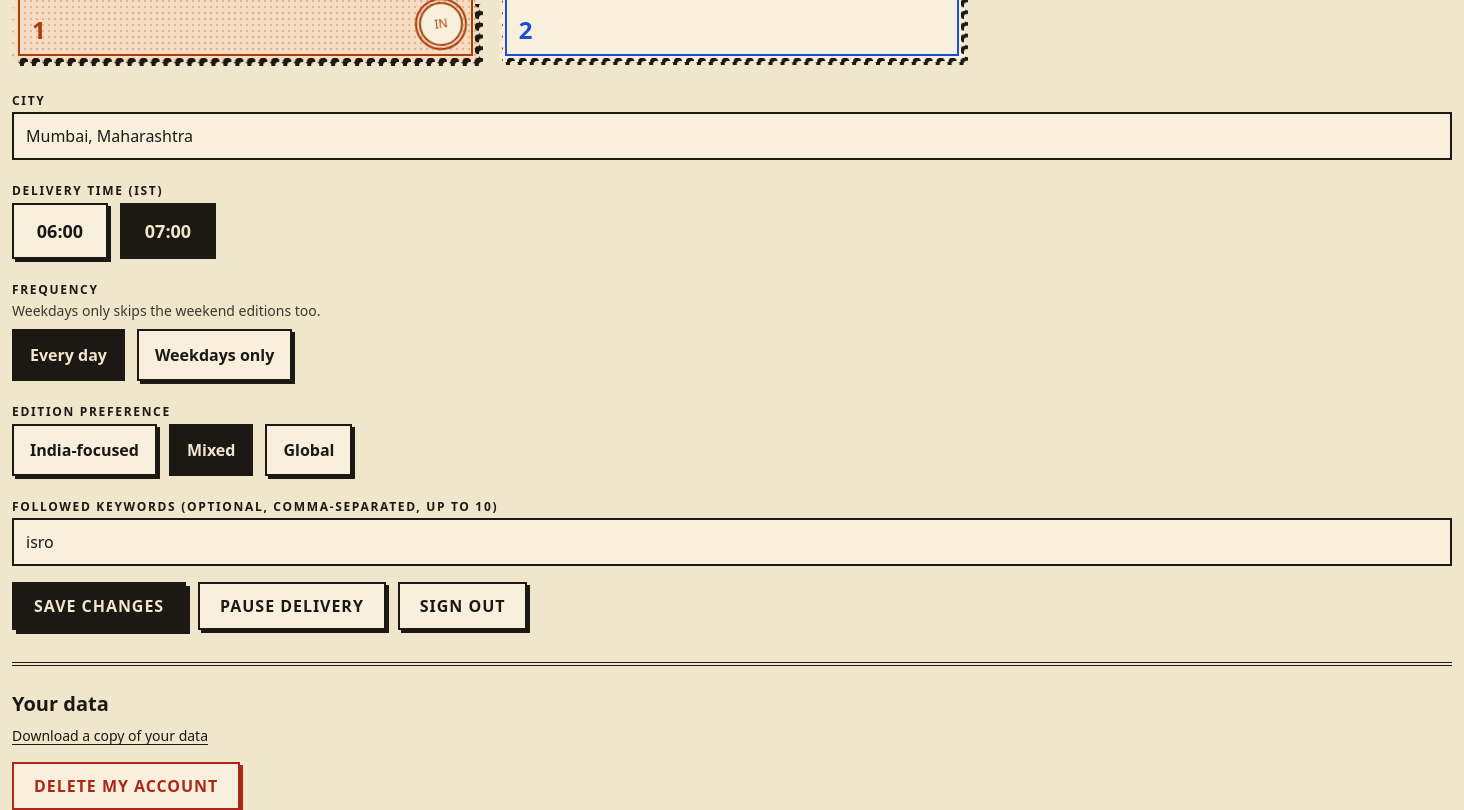
PreferencesPage, signed in › toggles pause and resume
The image size is (1464, 810).
(page scrolled)
Click the button "Pause delivery".
click(292, 606)  # box [198, 582, 386, 630]
(page scrolled)
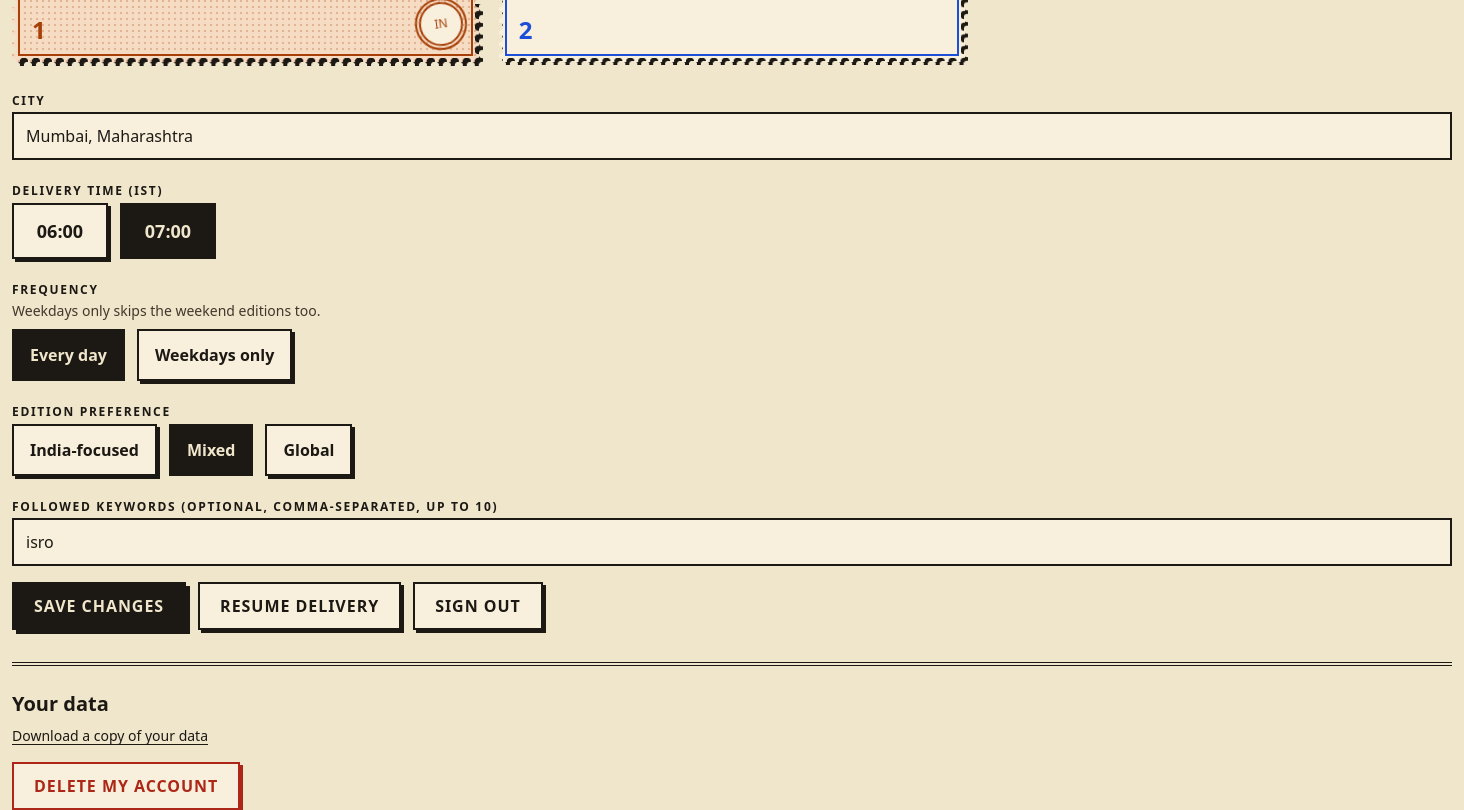
Expected: the button "Resume delivery" is shown, [198, 582, 401, 630]
